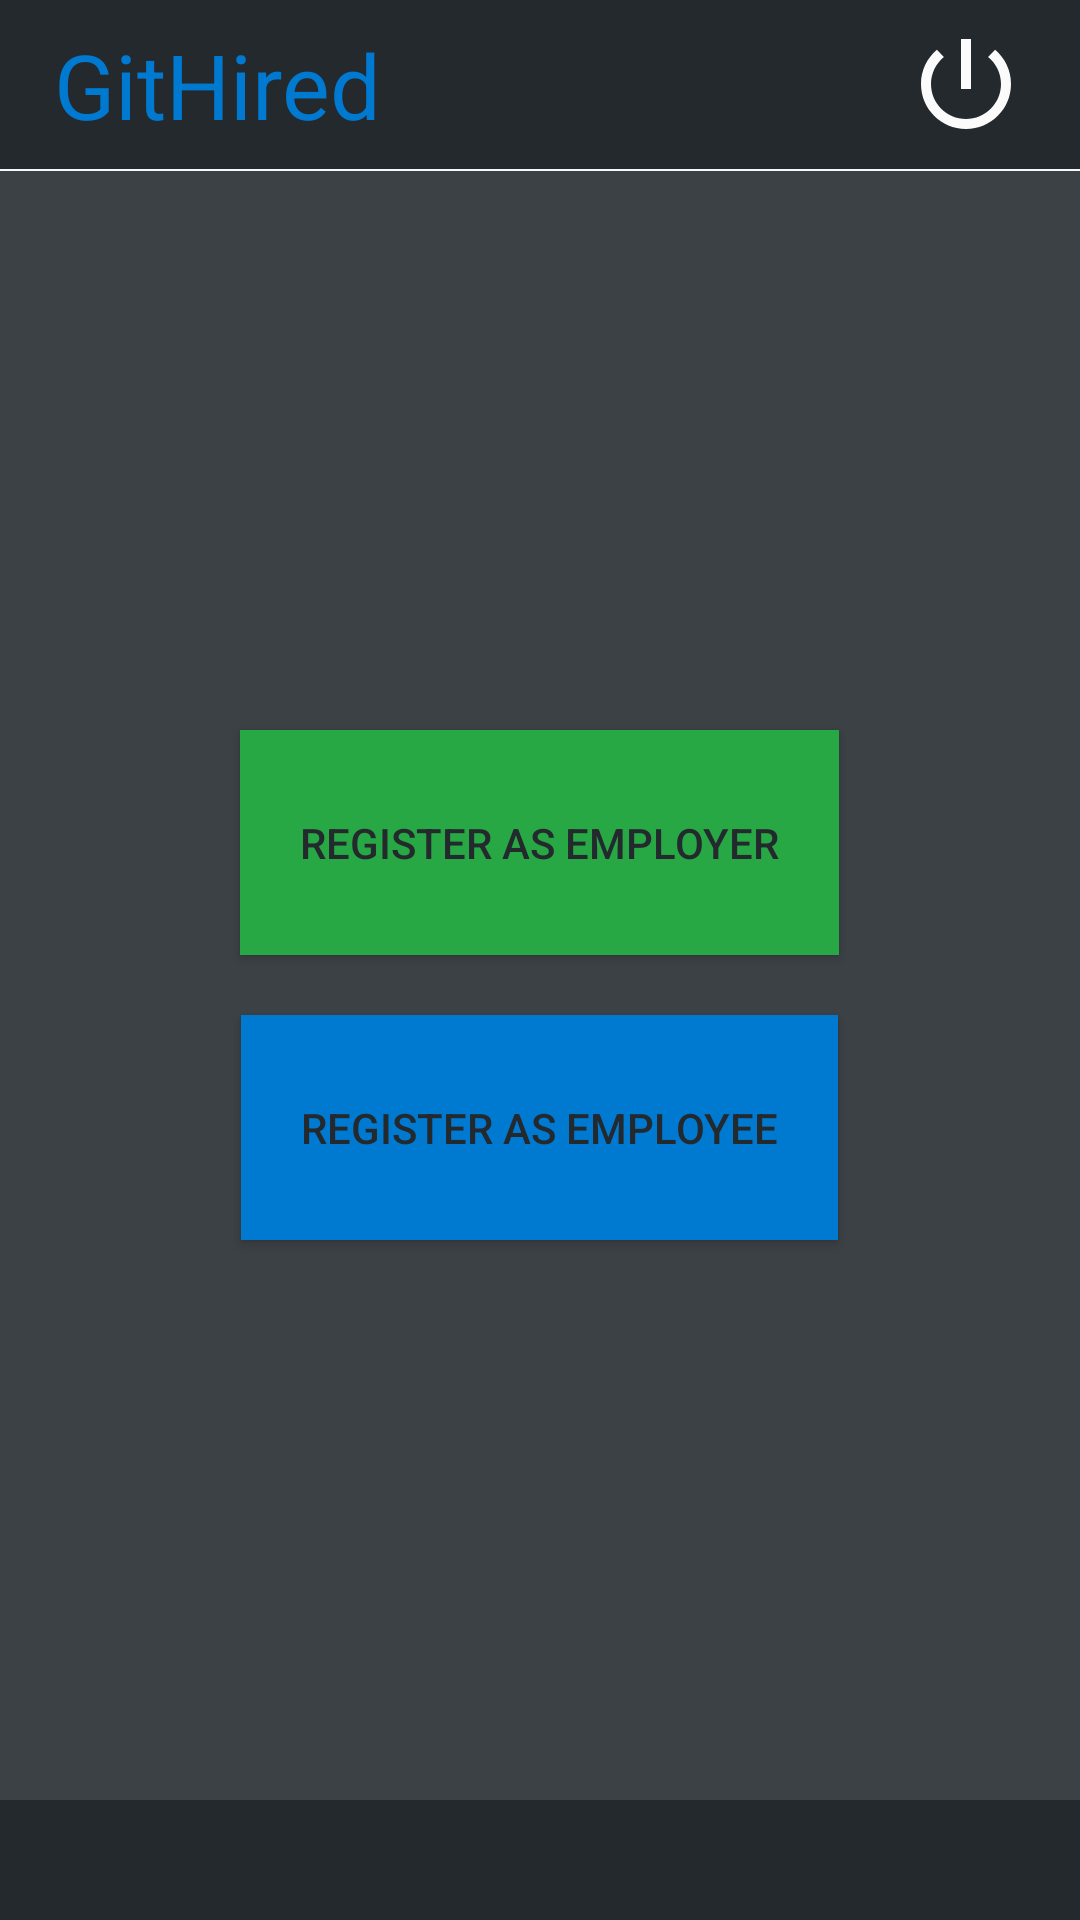

Screen size 1080x1920. Icon name, then its box in pixels as bbox=[x1, y1, x2, y2]:
powerwhite: bbox=[921, 39, 1011, 129]
